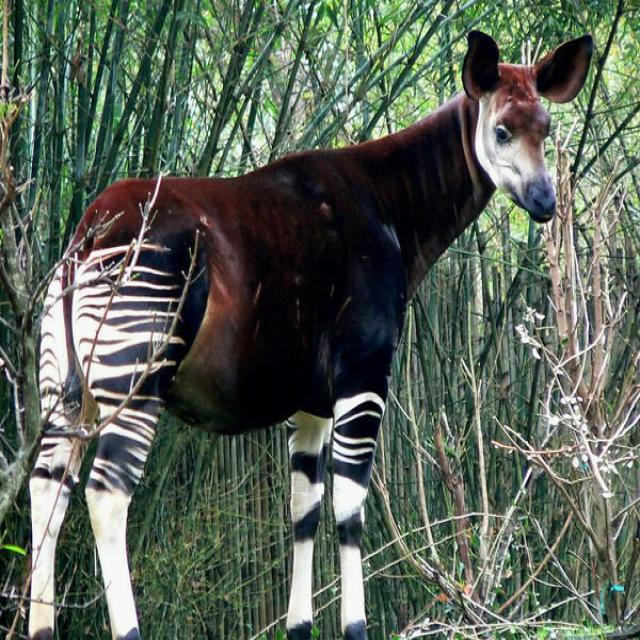Okapi: (20, 24, 601, 640)
